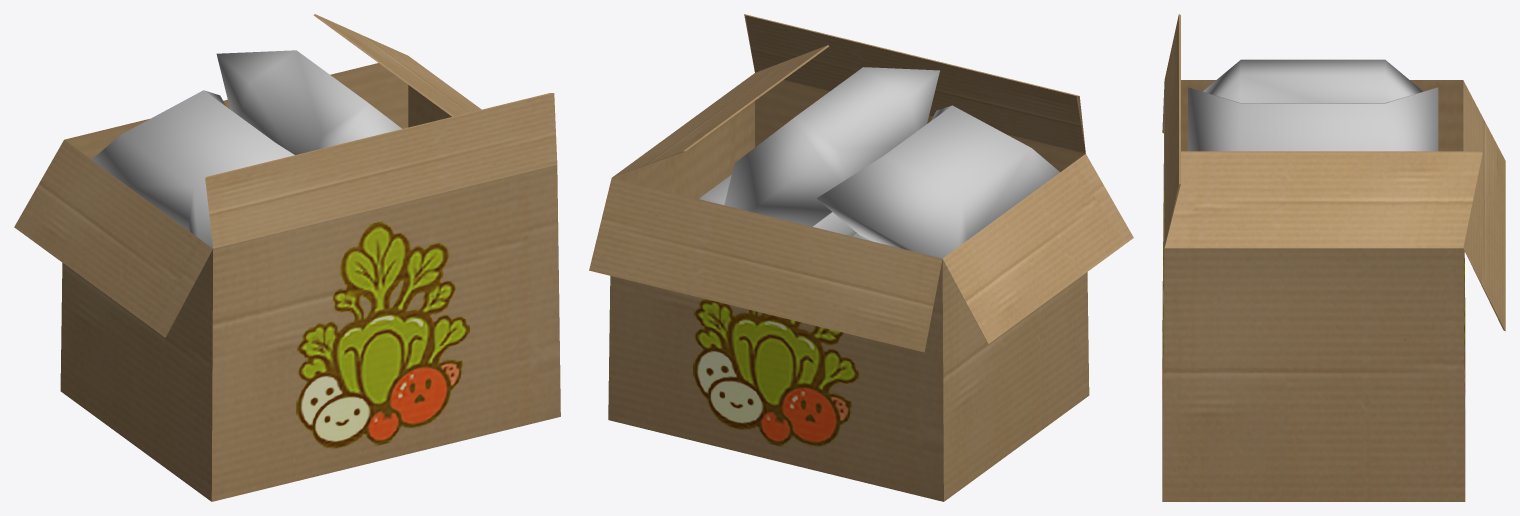
File: TomatoBox.fbx
3 renders of one model, left to right at view 1: azimuth 30°, elevation 25°; view 2: azimuth 150°, elevation 25°; view 3: azimuth 270°, elevation 25°, orthographic. The views are drawn at different scales.
Visible parts, largest first — view 1: Tomato_red.009; view 2: Tomato_red.009; view 3: Tomato_red.009.
Part boxes in pixels (bbox=[...]): Tomato_red.009: bbox=[14, 14, 560, 501]; Tomato_red.009: bbox=[589, 14, 1133, 501]; Tomato_red.009: bbox=[1162, 14, 1505, 501].
Size of the model in its own units: 87.45 by 67.83 by 65.28.
